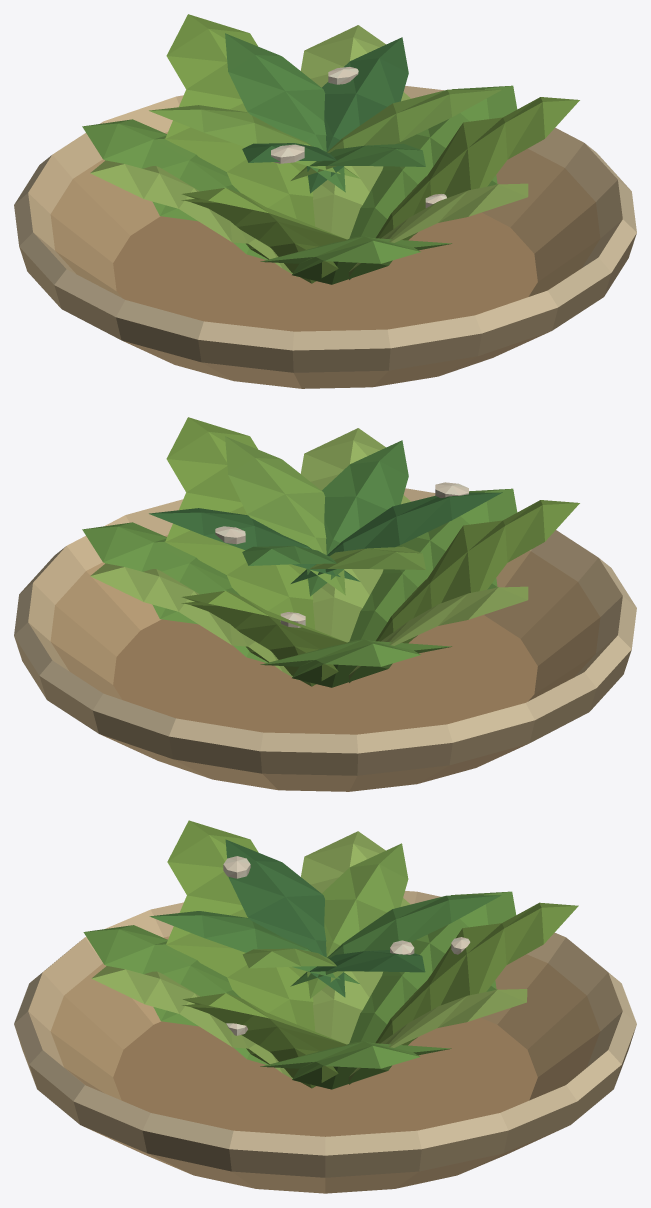
The model's file is salad_wild.glb.
3 renders of one model, top to bottom at view 1: azimuth 30°, elevation 25°; view 2: azimuth 150°, elevation 25°; view 3: azimuth 270°, elevation 25°, orthographic.
Parts seen in each view (by area): view 1: 浅木碗生菜野草与白酱; view 2: 浅木碗生菜野草与白酱; view 3: 浅木碗生菜野草与白酱.
Part boxes in pixels (x1=…): 浅木碗生菜野草与白酱: x1=14, y1=14, x2=636, y2=388; 浅木碗生菜野草与白酱: x1=14, y1=417, x2=636, y2=791; 浅木碗生菜野草与白酱: x1=14, y1=820, x2=636, y2=1193.
Bounding box in the file's own units: 0.528 × 0.1991 × 0.528.
